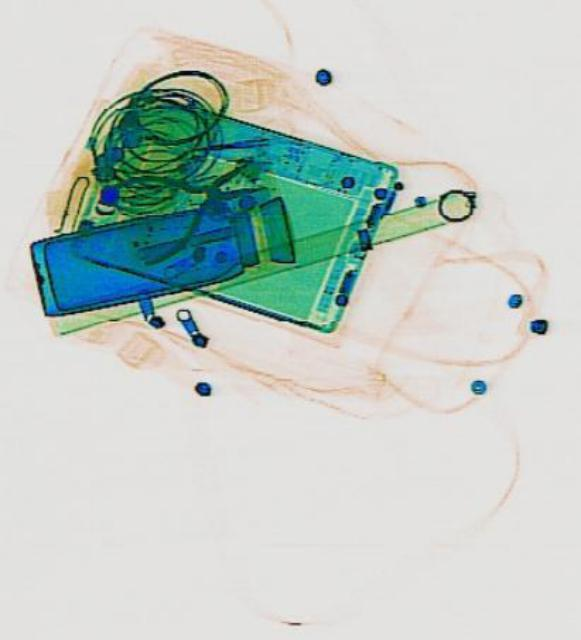Pliers: (100, 132, 273, 270)
